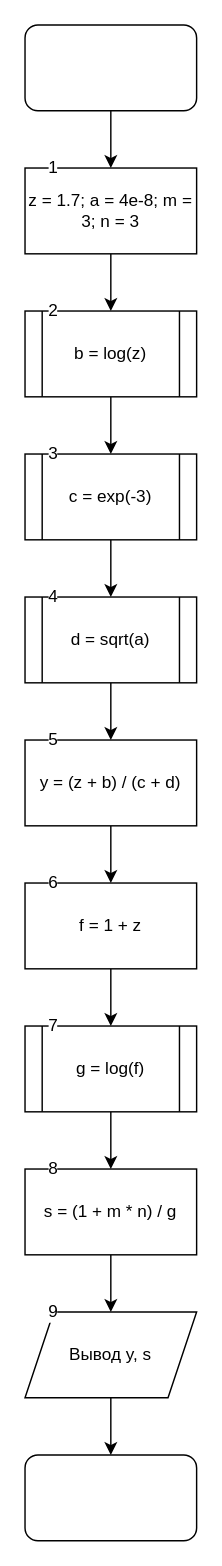
Some shapes in this 222 by 1566 pixel diagram are drawn without their labels. Here are the shapes that lost their labels. From the top down, the centre of each, then its label:
At (110,67): "Начало".
At (110,1497): "Конец".
